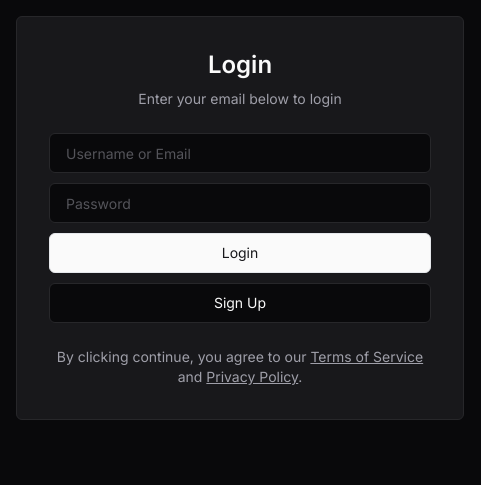
Login Page Tests › should show error message when login fails
Step 1. Type "testuser" into the field with placeholder "Username or Email" → (240, 153), box [49,133,431,173]
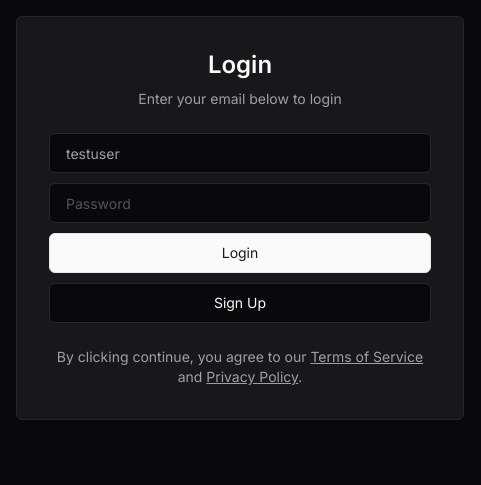
Step 2. Type "wrongpassword" into the password field with placeholder "Password" → (240, 203), box [49,183,431,223]
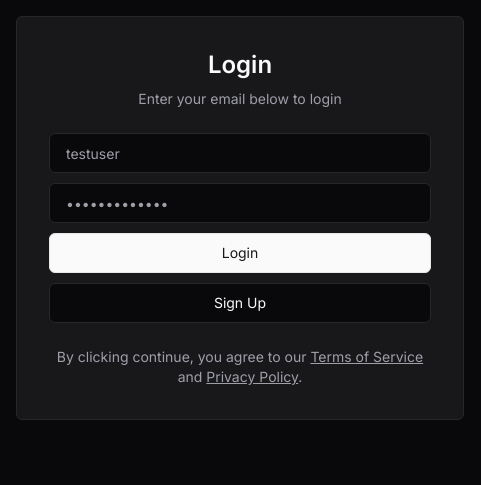
Step 3. Click the button "Login" → click(240, 253), box [49,233,431,273]
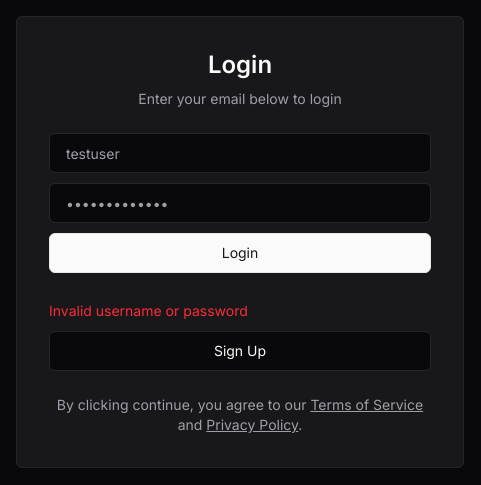
Result: the text "Invalid username or password" is shown at [49,302,248,319]
